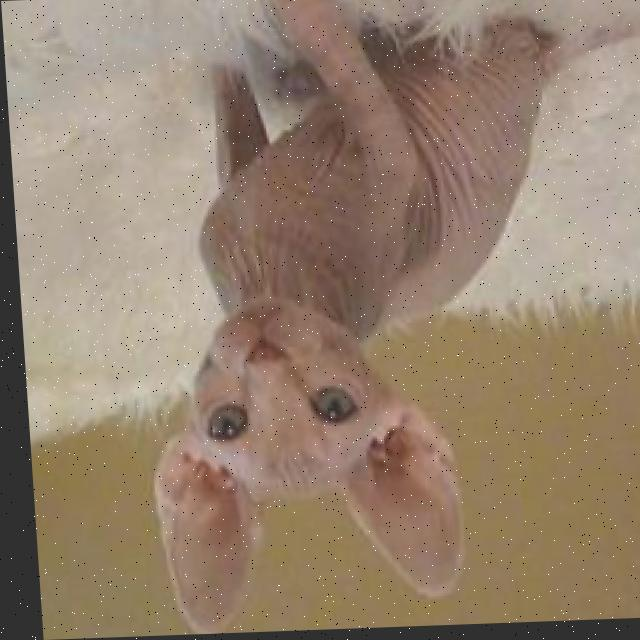Sphynx: (116, 0, 577, 637)
